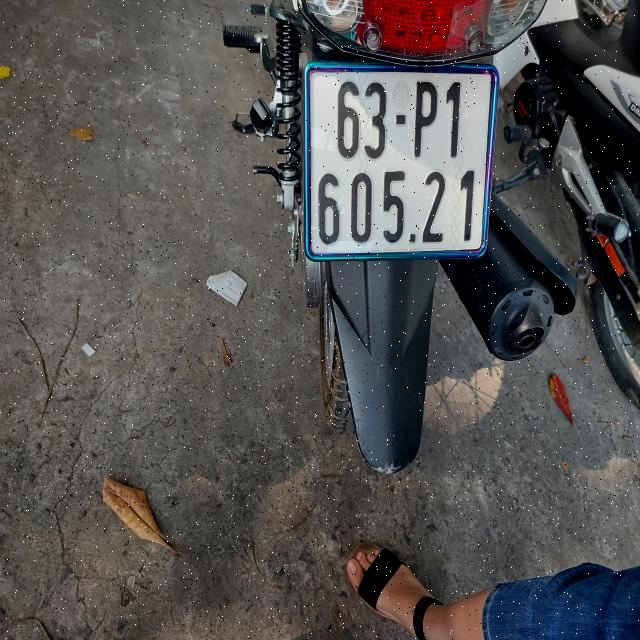0: (350, 173, 375, 246)
1: (443, 81, 461, 159), (457, 169, 475, 242)
2: (423, 170, 446, 245)
5: (383, 169, 405, 246)
6: (334, 80, 362, 162), (364, 79, 388, 159), (318, 173, 342, 247)
P: (415, 79, 437, 160)
